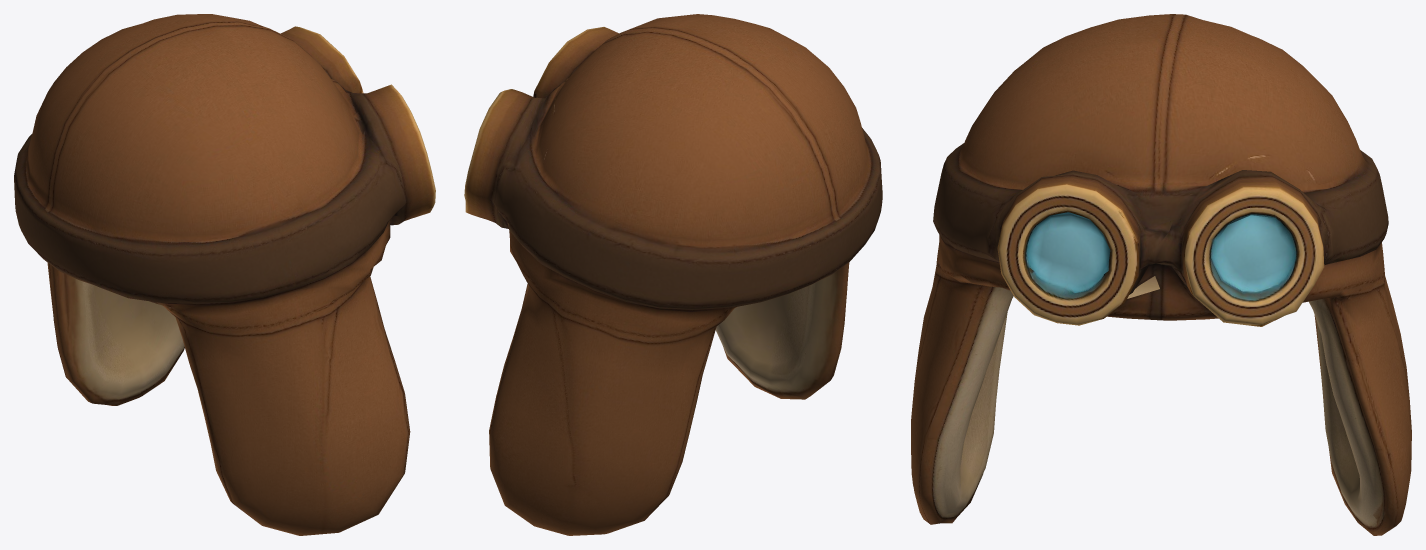
The model's file is tripo_convert_c5363ecc-3c3b-4f05-ae38-500784fca0a6.fbx.
The picture shows the model from 3 angles, left to right: view 1: azimuth 30°, elevation 25°; view 2: azimuth 150°, elevation 25°; view 3: azimuth 270°, elevation 25°; orthographic projection. The views are drawn at different scales.
Parts seen in each view (by area): view 1: tripo_node_c5363ecc; view 2: tripo_node_c5363ecc; view 3: tripo_node_c5363ecc.
Boxes of the visible parts, x1,y1,x2,y2 form: tripo_node_c5363ecc: (14,14,435,535); tripo_node_c5363ecc: (464,14,882,535); tripo_node_c5363ecc: (911,14,1411,535).
Size of the model in its own units: 0.7768 by 0.97 by 0.922.
Materials: 1 (1 with a texture image).
